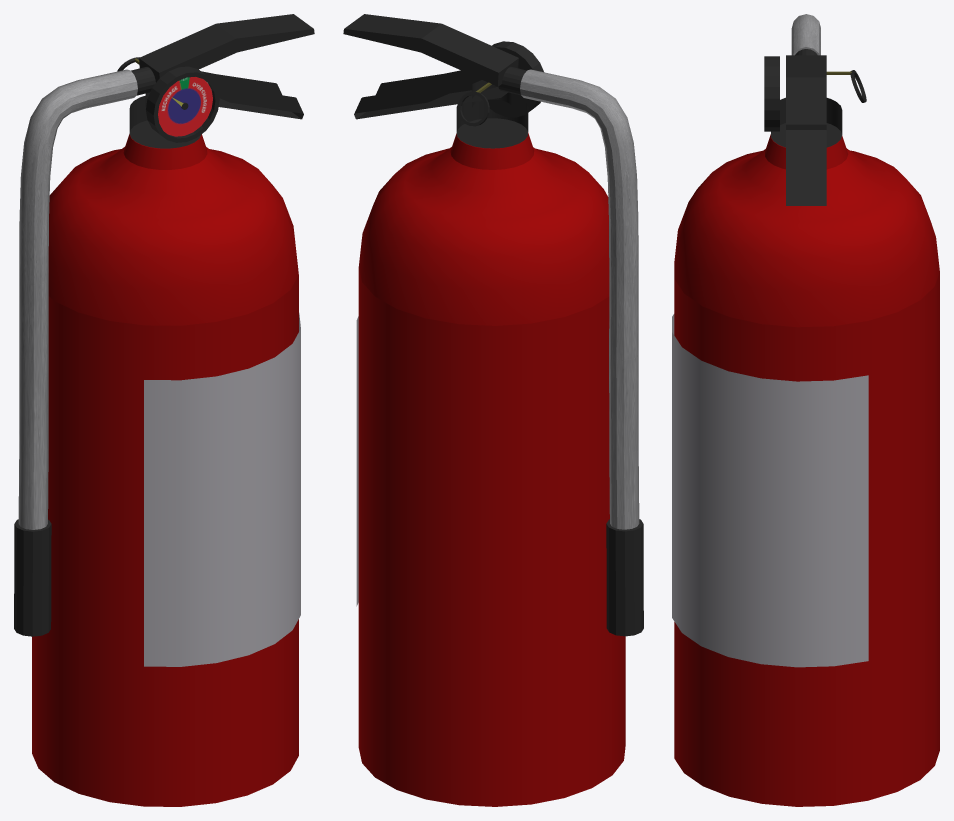
Rendered from fireextinguisher.glb.
The picture shows the model from 3 angles, left to right: view 1: azimuth 30°, elevation 25°; view 2: azimuth 150°, elevation 25°; view 3: azimuth 270°, elevation 25°; orthographic projection.
Visible parts, largest first — view 1: fireextingusher; view 2: fireextingusher; view 3: fireextingusher.
Boxes of the visible parts, left/top/right/bottom form: fireextingusher: left=14, top=14, right=314, bottom=806; fireextingusher: left=343, top=14, right=643, bottom=806; fireextingusher: left=672, top=14, right=939, bottom=806.
Size of the model in its own units: 2.41 by 5.63 by 1.94.
7 materials, 2 textured.
